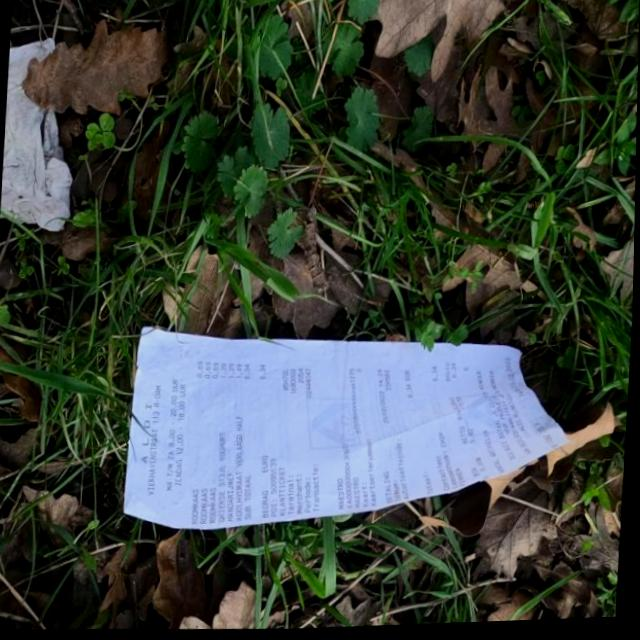Paper: (120, 310, 583, 550), (0, 29, 82, 235)
